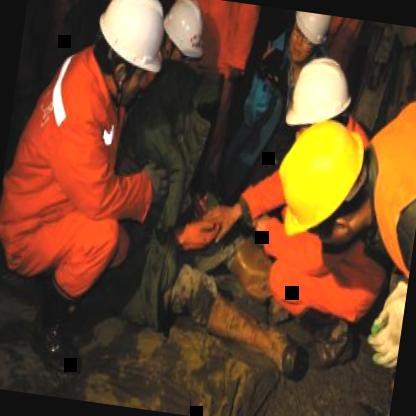helmet: (262, 100, 384, 266), (87, 0, 176, 103), (274, 46, 360, 152), (155, 0, 213, 71), (288, 10, 334, 62)
